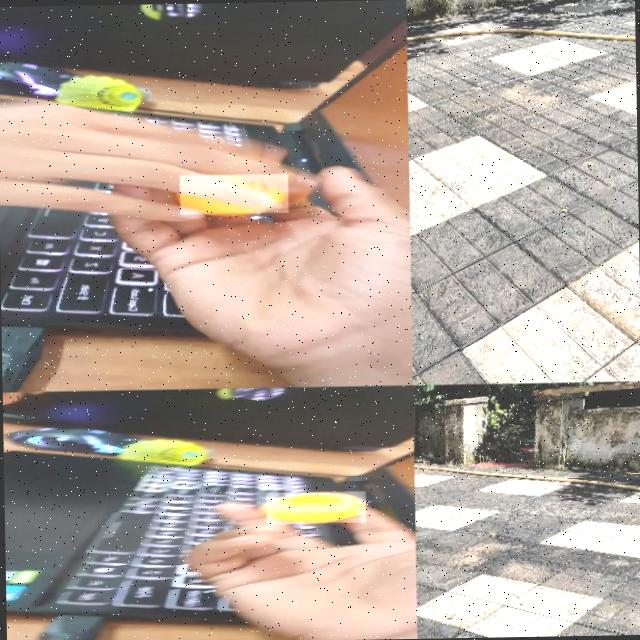ping-pong-ball: (178, 172, 288, 214), (262, 490, 366, 523)
